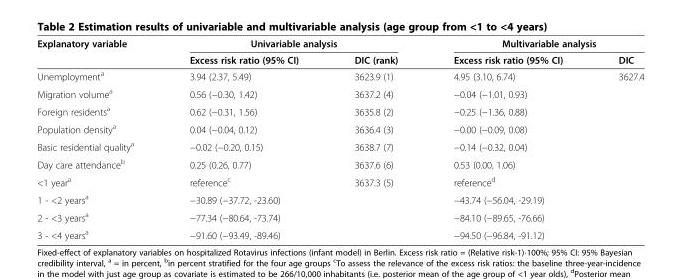table: (36, 37, 643, 240)
table column: (161, 37, 325, 240), (425, 37, 589, 240), (36, 37, 161, 240), (325, 37, 425, 240), (589, 37, 643, 240)
table column header: (36, 37, 643, 67)
table row: (36, 101, 643, 119), (36, 119, 643, 137), (36, 154, 643, 172), (36, 172, 643, 190), (36, 207, 643, 225), (36, 67, 643, 84), (36, 84, 643, 101), (36, 137, 643, 154), (36, 190, 643, 207), (36, 51, 643, 67), (36, 225, 643, 240), (36, 37, 643, 51)
table spanning cell: (36, 37, 161, 67), (161, 37, 425, 51), (425, 37, 643, 51)
